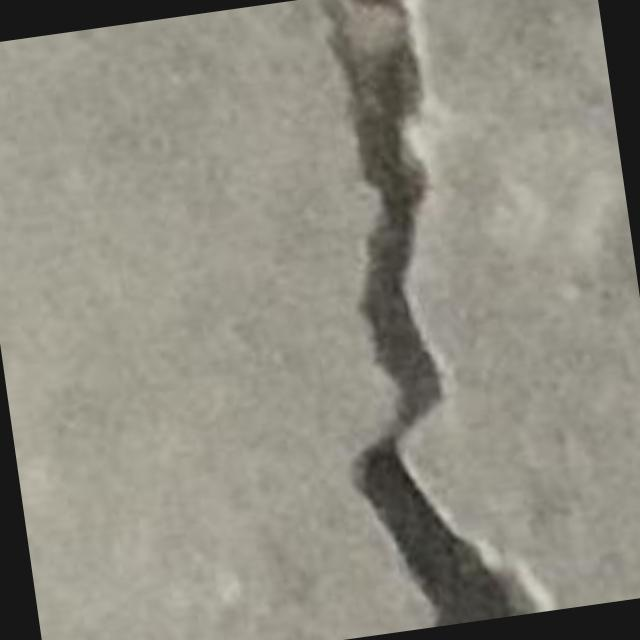crack: (325, 0, 516, 625)
